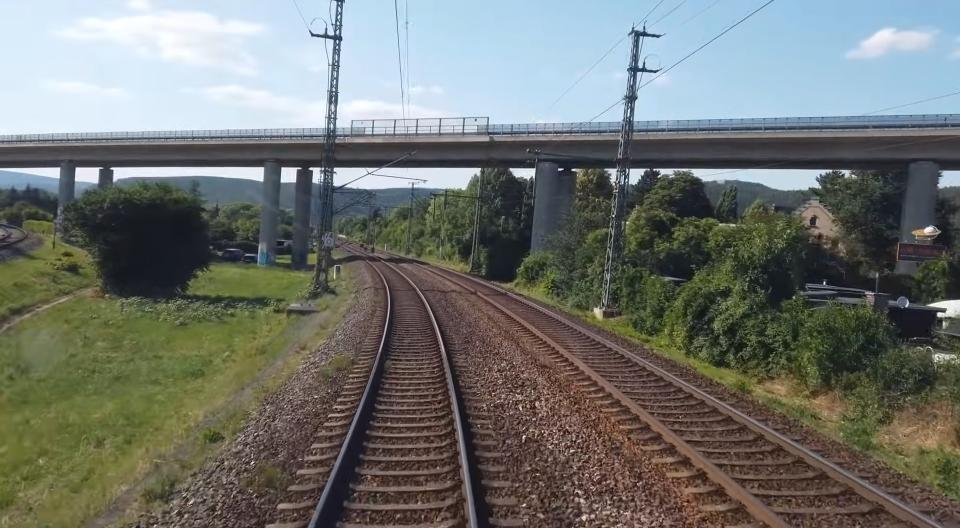Plant: (318, 354, 352, 382), (260, 462, 284, 493)
